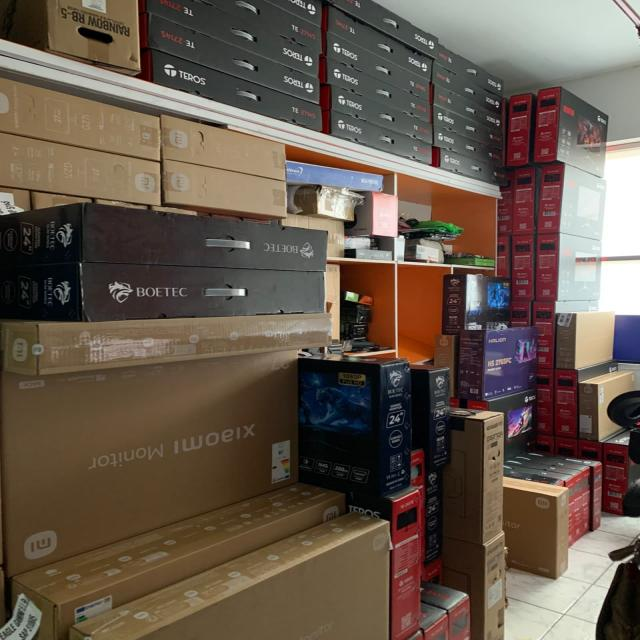caja-monitor: (0, 349, 298, 578), (12, 482, 347, 640), (71, 511, 390, 640), (0, 203, 328, 272), (0, 312, 333, 376), (0, 263, 326, 322), (306, 482, 420, 640), (141, 13, 321, 105), (299, 354, 411, 496), (137, 50, 324, 133), (138, 0, 319, 78), (1, 77, 160, 161), (0, 133, 162, 206), (443, 407, 505, 545), (322, 6, 435, 81), (161, 114, 287, 181), (163, 159, 288, 220), (326, 31, 431, 102), (320, 59, 431, 123), (192, 0, 322, 54), (502, 458, 584, 543), (512, 453, 594, 537), (503, 476, 569, 580), (532, 87, 608, 177), (442, 531, 504, 640), (324, 0, 438, 59), (320, 86, 433, 145), (520, 450, 601, 531), (321, 110, 433, 166), (503, 463, 575, 550), (457, 326, 537, 399), (538, 163, 605, 240), (555, 359, 618, 439), (467, 389, 537, 461), (533, 301, 599, 369), (536, 233, 601, 301), (410, 363, 450, 473), (441, 274, 512, 334), (580, 371, 636, 442), (431, 63, 504, 116), (434, 44, 504, 98), (433, 83, 504, 133), (556, 312, 615, 369), (432, 105, 504, 150), (429, 148, 508, 188), (603, 429, 639, 516), (421, 580, 469, 640), (433, 128, 503, 166), (511, 166, 541, 235), (505, 93, 532, 166), (265, 0, 322, 28), (511, 235, 535, 301), (433, 334, 456, 397), (537, 368, 556, 436), (503, 468, 563, 487), (497, 170, 513, 236), (554, 437, 579, 458), (579, 440, 601, 463), (498, 237, 510, 278)
